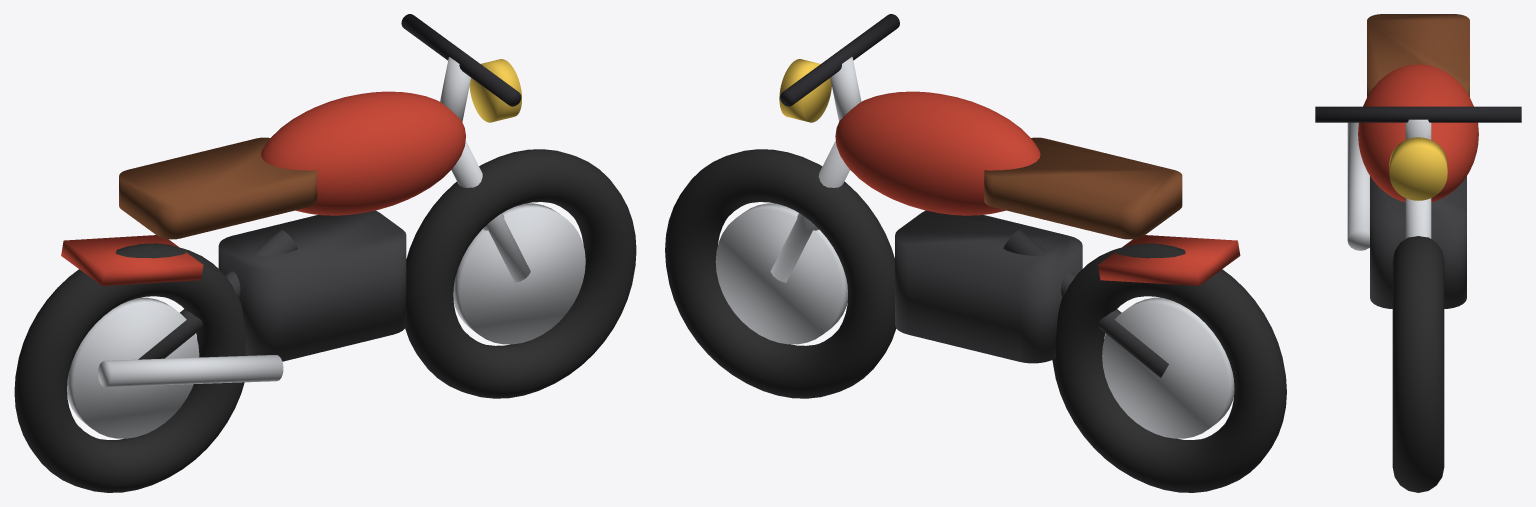
The model's file is motorcycle.glb.
3 views of the same model, side by side, from view 1: azimuth 30°, elevation 25°; view 2: azimuth 150°, elevation 25°; view 3: azimuth 270°, elevation 25° (orthographic). The views are drawn at different scales.
Visible parts, largest first — view 1: part0, part1, part4, part5, part6, part12, part13, part7, part9, part11, part10; view 2: part0, part1, part4, part5, part6, part13, part7, part9, part11, part10; view 3: part0, part5, part4, part6, part9, part10, part12, part7.
Boxes of the visible parts, x1=… form: part0: x1=14, y1=149, x2=636, y2=492; part1: x1=67, y1=203, x2=585, y2=438; part4: x1=218, y1=210, x2=406, y2=361; part5: x1=261, y1=91, x2=465, y2=215; part6: x1=119, y1=137, x2=317, y2=239; part12: x1=98, y1=355, x2=283, y2=387; part13: x1=61, y1=235, x2=203, y2=285; part7: x1=440, y1=57, x2=530, y2=282; part9: x1=401, y1=14, x2=521, y2=106; part11: x1=138, y1=229, x2=297, y2=359; part10: x1=469, y1=59, x2=521, y2=122; part0: x1=665, y1=149, x2=1286, y2=492; part1: x1=715, y1=203, x2=1234, y2=438; part4: x1=895, y1=210, x2=1082, y2=363; part5: x1=835, y1=91, x2=1040, y2=215; part6: x1=984, y1=137, x2=1182, y2=239; part13: x1=1098, y1=235, x2=1240, y2=285; part7: x1=770, y1=57, x2=861, y2=282; part9: x1=780, y1=14, x2=899, y2=106; part11: x1=1003, y1=229, x2=1168, y2=377; part10: x1=779, y1=59, x2=831, y2=122; part0: x1=1392, y1=236, x2=1444, y2=492; part5: x1=1358, y1=64, x2=1478, y2=202; part4: x1=1370, y1=176, x2=1466, y2=308; part6: x1=1367, y1=14, x2=1469, y2=96; part9: x1=1315, y1=106, x2=1521, y2=122; part10: x1=1389, y1=137, x2=1447, y2=200; part12: x1=1347, y1=122, x2=1369, y2=250; part7: x1=1405, y1=119, x2=1431, y2=238.
Bounding box in the file's own units: 1 × 0.5512 × 0.2977.
